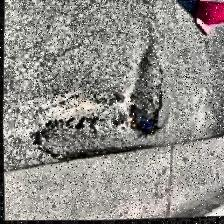pothole: (126, 46, 166, 140)
